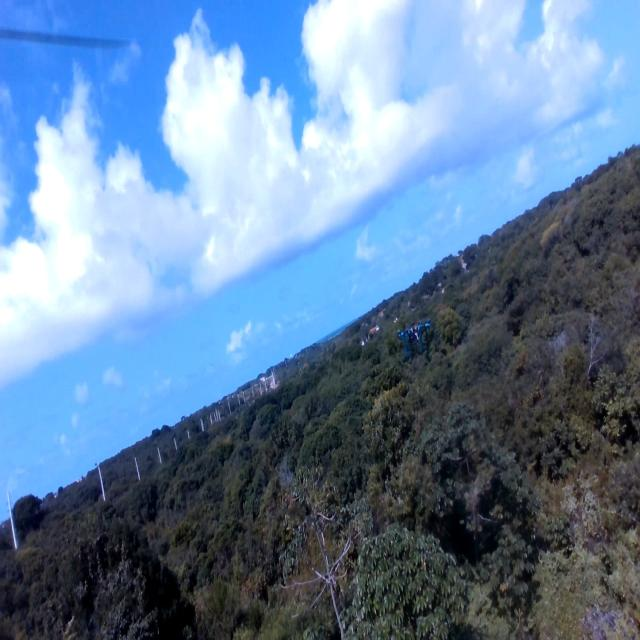-uav-: (394, 310, 438, 366)
